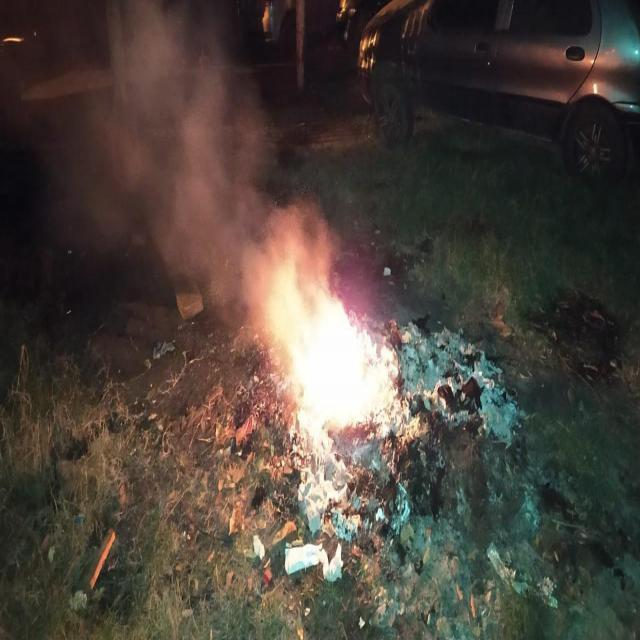Fire: (250, 238, 364, 430)
